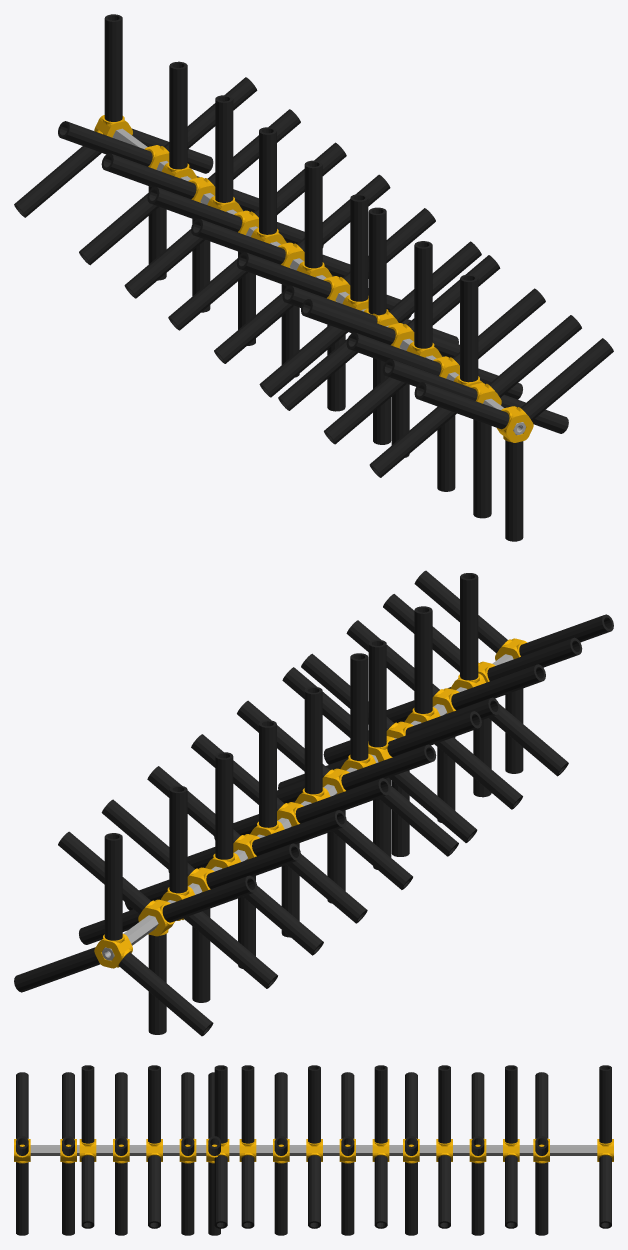
File: intakeRoller.glb
The picture shows the model from 3 angles, top to bottom: view 1: azimuth 30°, elevation 25°; view 2: azimuth 150°, elevation 25°; view 3: azimuth 270°, elevation 25°; orthographic projection. The views are drawn at different scales.
Visible parts, largest first — view 1: intakeRoller_0, intakeRoller_1, intakeRoller_2; view 2: intakeRoller_0, intakeRoller_1, intakeRoller_2; view 3: intakeRoller_0, intakeRoller_1, intakeRoller_2.
Boxes of the visible parts, <box> form: intakeRoller_0: <box>14,14,613,541</box>; intakeRoller_1: <box>94,115,533,442</box>; intakeRoller_2: <box>112,128,525,435</box>; intakeRoller_0: <box>14,570,613,1036</box>; intakeRoller_1: <box>94,638,526,968</box>; intakeRoller_2: <box>102,654,513,960</box>; intakeRoller_0: <box>16,1065,611,1235</box>; intakeRoller_1: <box>14,1138,613,1163</box>; intakeRoller_2: <box>30,1145,597,1155</box>.
Bounding box in the file's own units: 4.66 × 5.17 × 17.03.
